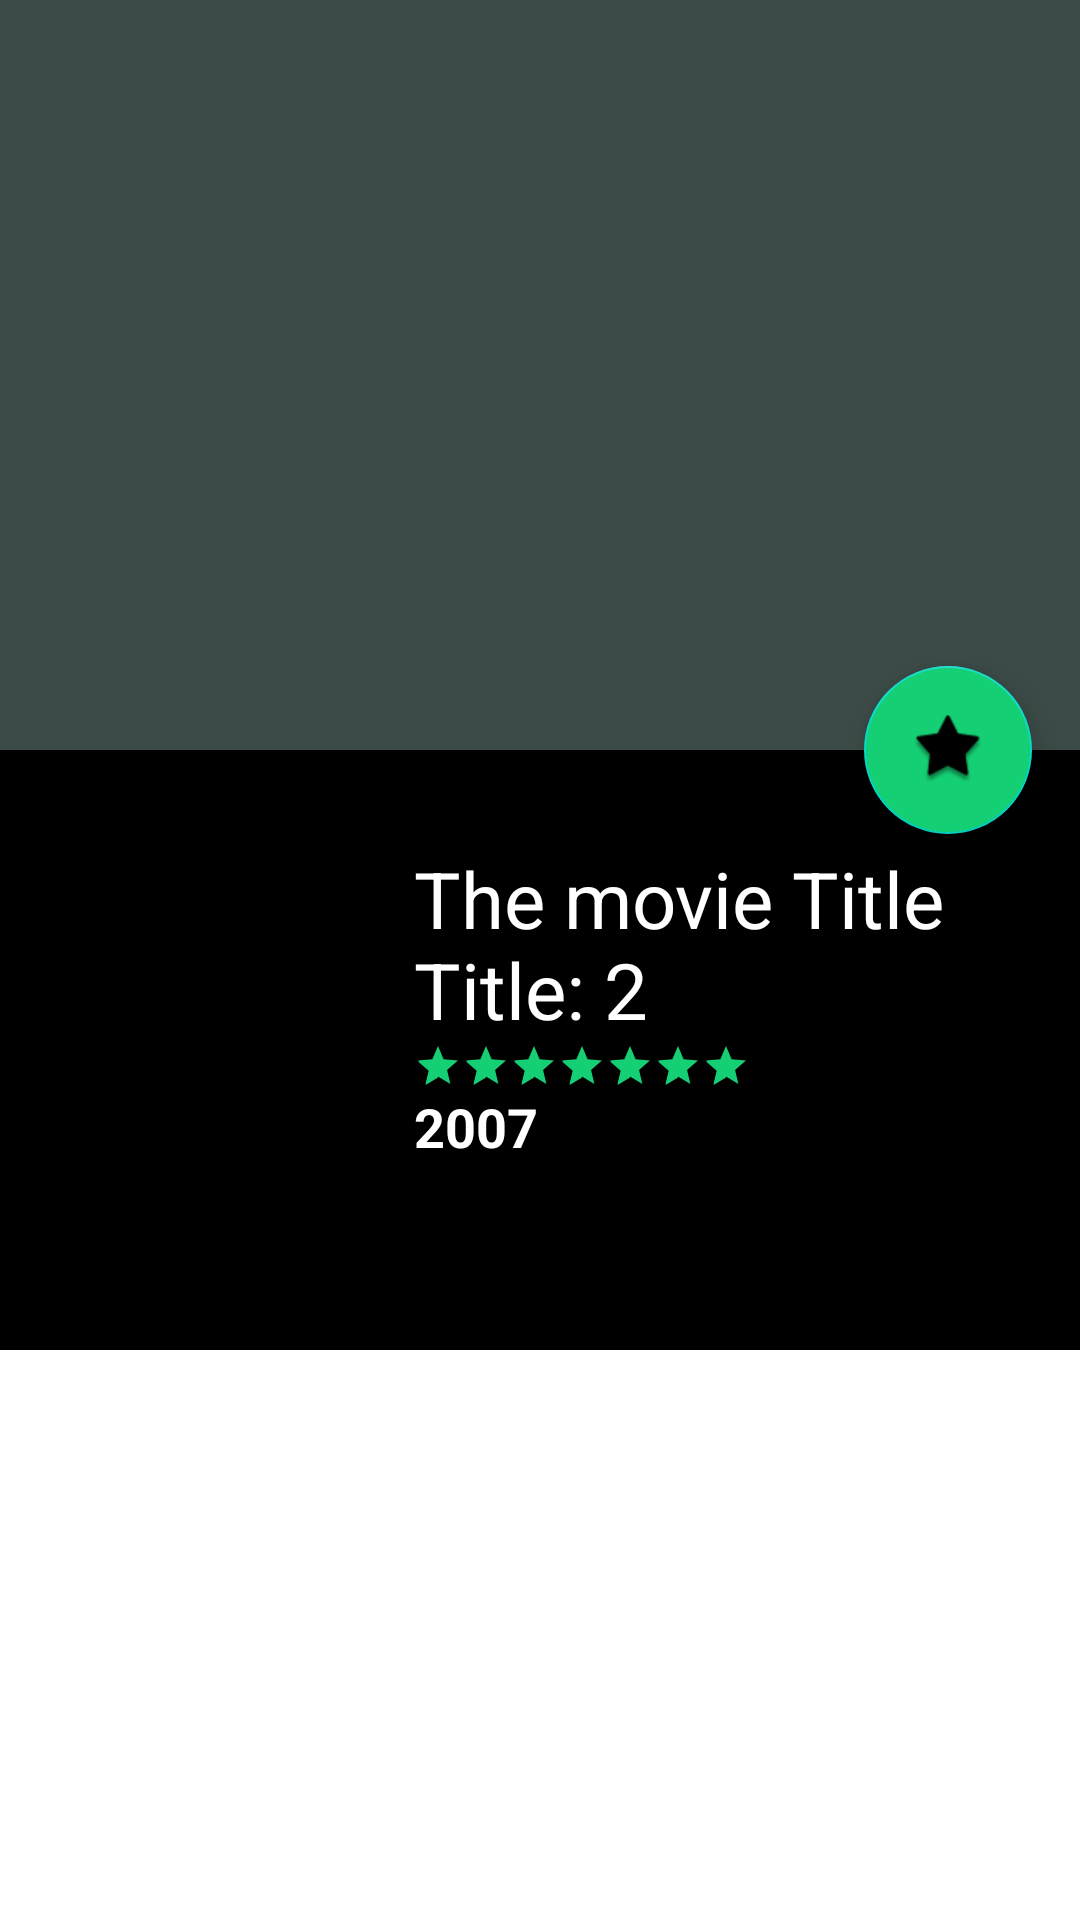

Named icons in this screenshot (1080px x 1920px) and their centers, [x,y]:
star off: [948,750]
